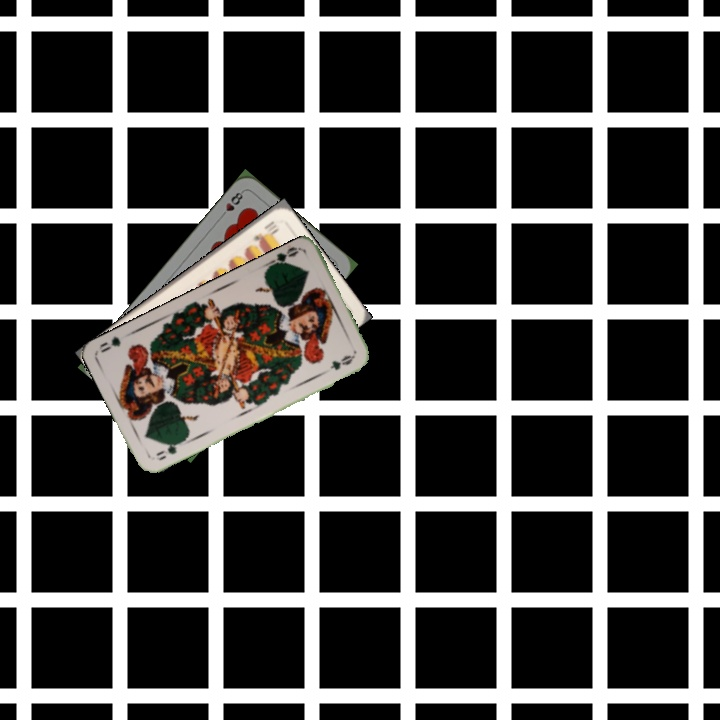E10: (249, 216, 280, 244)
GO: (263, 243, 302, 272), (152, 437, 186, 463)
H8: (216, 187, 246, 221)
